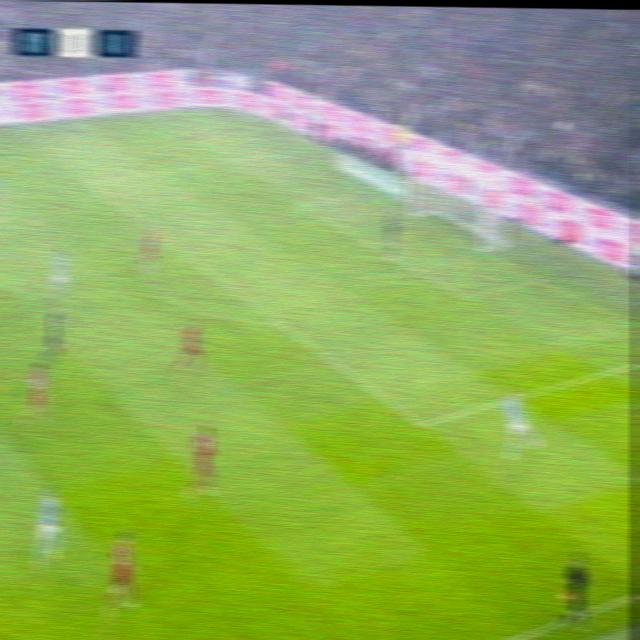bigarea_bottom_inner: (406, 413, 438, 438)
bigarea_top_inner: (77, 174, 93, 190)
bigarea_top_outter: (277, 145, 301, 160)
bottom_arc_area_intersection: (264, 312, 295, 336)
corner: (197, 106, 219, 117)
smallarea_bottom_inner: (455, 288, 473, 305)
smallarea_bottom_outter: (526, 272, 552, 289)
smallarea_top_inner: (296, 198, 319, 217)
smallarea_top_outter: (357, 186, 377, 201)
top_arc_area_intersection: (157, 233, 174, 250)
